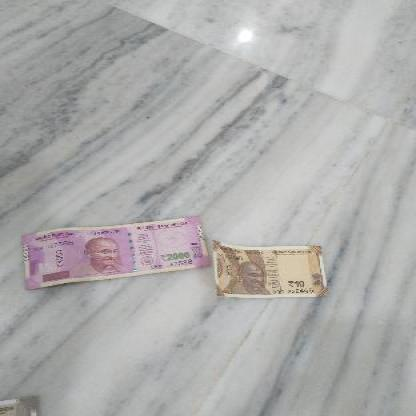New10Front: (214, 242, 330, 298)
New2000Front: (23, 218, 206, 289)
